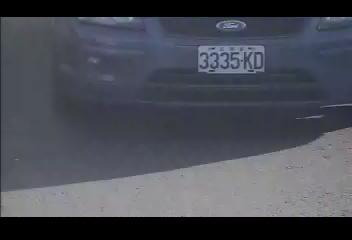plate: (196, 43, 266, 75)
